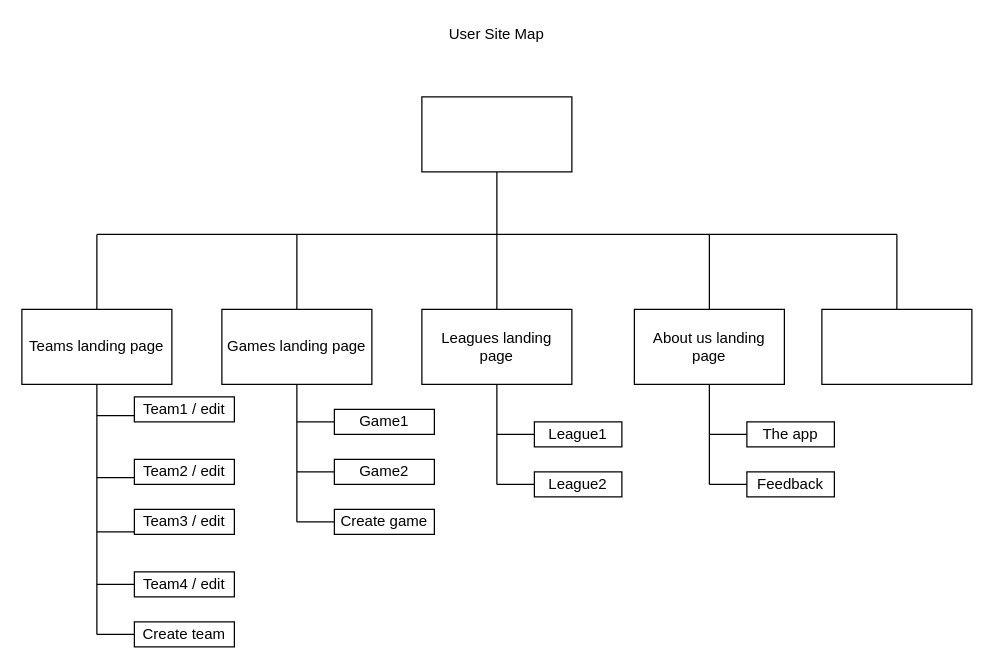
The diagram is 994 pixels wide and 669 high, and some of its shapes have lost their labels. The shapes that lost their labels are listed below. From the top down, each one's centre as x and y in pixels, then its label:
At (x=496, y=134): "Home Page".
At (x=896, y=346): "Contact us landing page".
